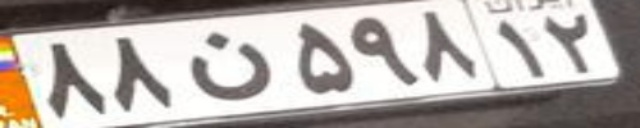1: (496, 19, 541, 77)
2: (543, 13, 593, 73)
5: (294, 22, 352, 93)
8: (42, 43, 105, 118), (112, 37, 173, 113), (419, 8, 480, 82)
9: (350, 15, 417, 84)
non: (184, 30, 272, 101)
